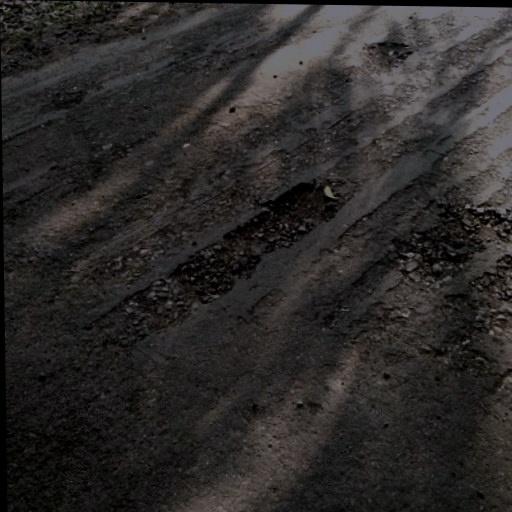pothole: (168, 174, 354, 307), (391, 199, 512, 287), (467, 251, 512, 306), (359, 36, 416, 78)
